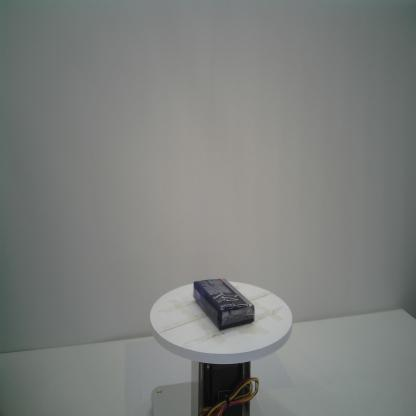Gum: (193, 276, 256, 332)
